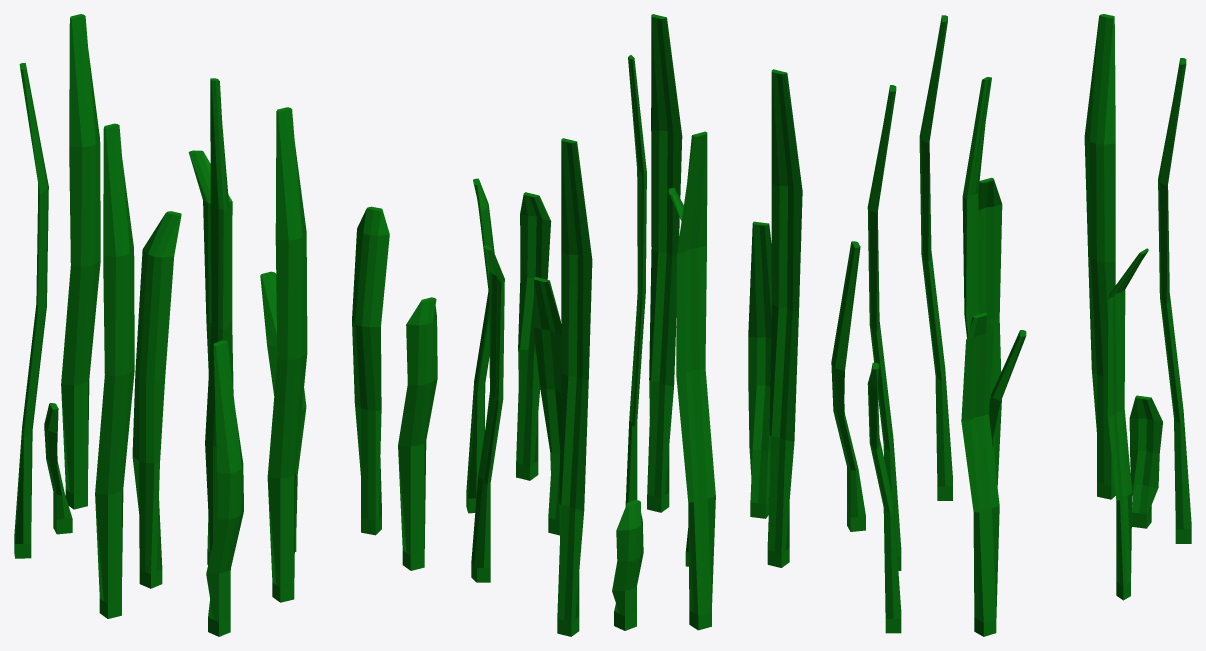
File: grass_02.glb
3 views of the same model, side by side, from view 1: azimuth 30°, elevation 25°; view 2: azimuth 150°, elevation 25°; view 3: azimuth 270°, elevation 25° (orthographic). The views are drawn at different scales.
Parts seen in each view (by area): view 1: grass; view 2: grass; view 3: grass.
Part boxes in pixels (bbox=[...]): grass: bbox=[14, 14, 437, 636]; grass: bbox=[466, 14, 802, 636]; grass: bbox=[831, 14, 1191, 636].
Size of the model in its own units: 44.04 by 67.1 by 45.53.
